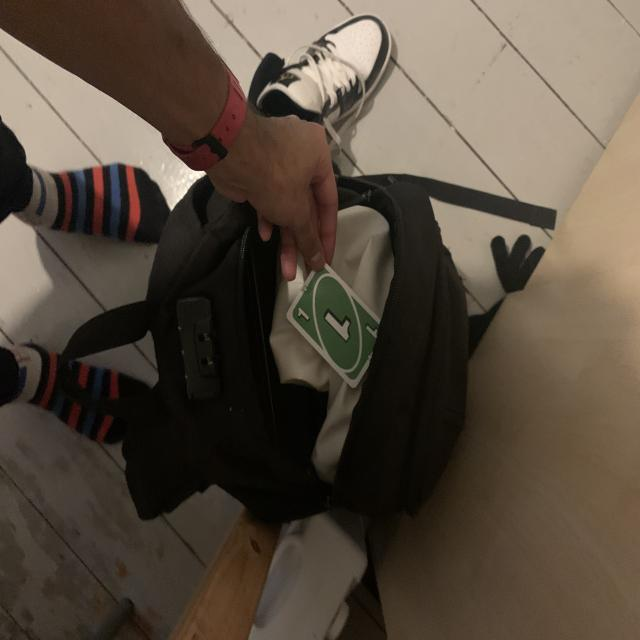lgreen-1: (292, 302, 314, 330)
